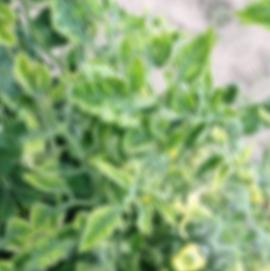Tomato leaf mosaic virus: (162, 21, 236, 89), (65, 195, 135, 256), (71, 68, 124, 120), (140, 27, 184, 70), (119, 54, 158, 98)
